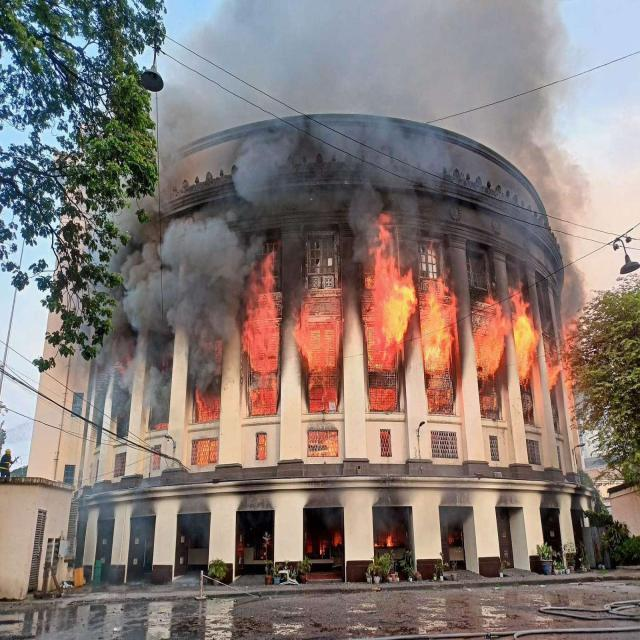Fire: (360, 220, 412, 384), (242, 249, 286, 425), (472, 292, 541, 388), (298, 287, 346, 413), (416, 273, 459, 384), (304, 424, 343, 462), (191, 434, 222, 469), (316, 526, 346, 561), (381, 529, 398, 551)
Smoke: (164, 0, 564, 150), (121, 214, 237, 362), (230, 138, 293, 209), (343, 171, 378, 256)
